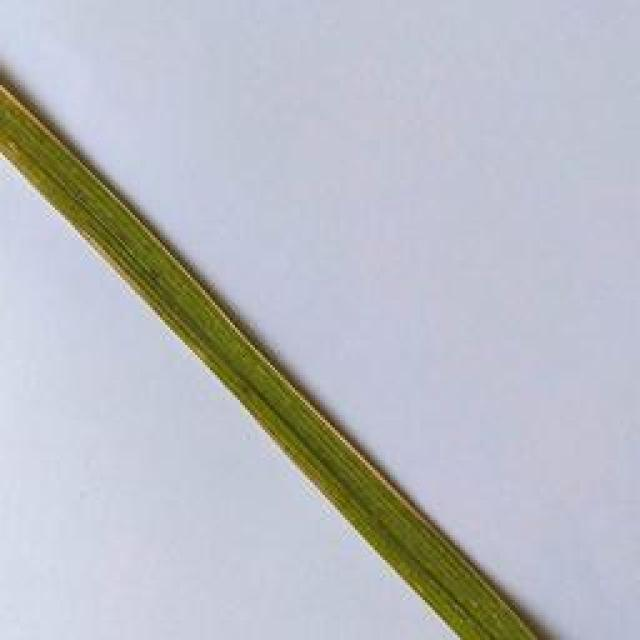Bacterial_Blight: (120, 192, 294, 394), (254, 352, 426, 516), (0, 82, 74, 150)
